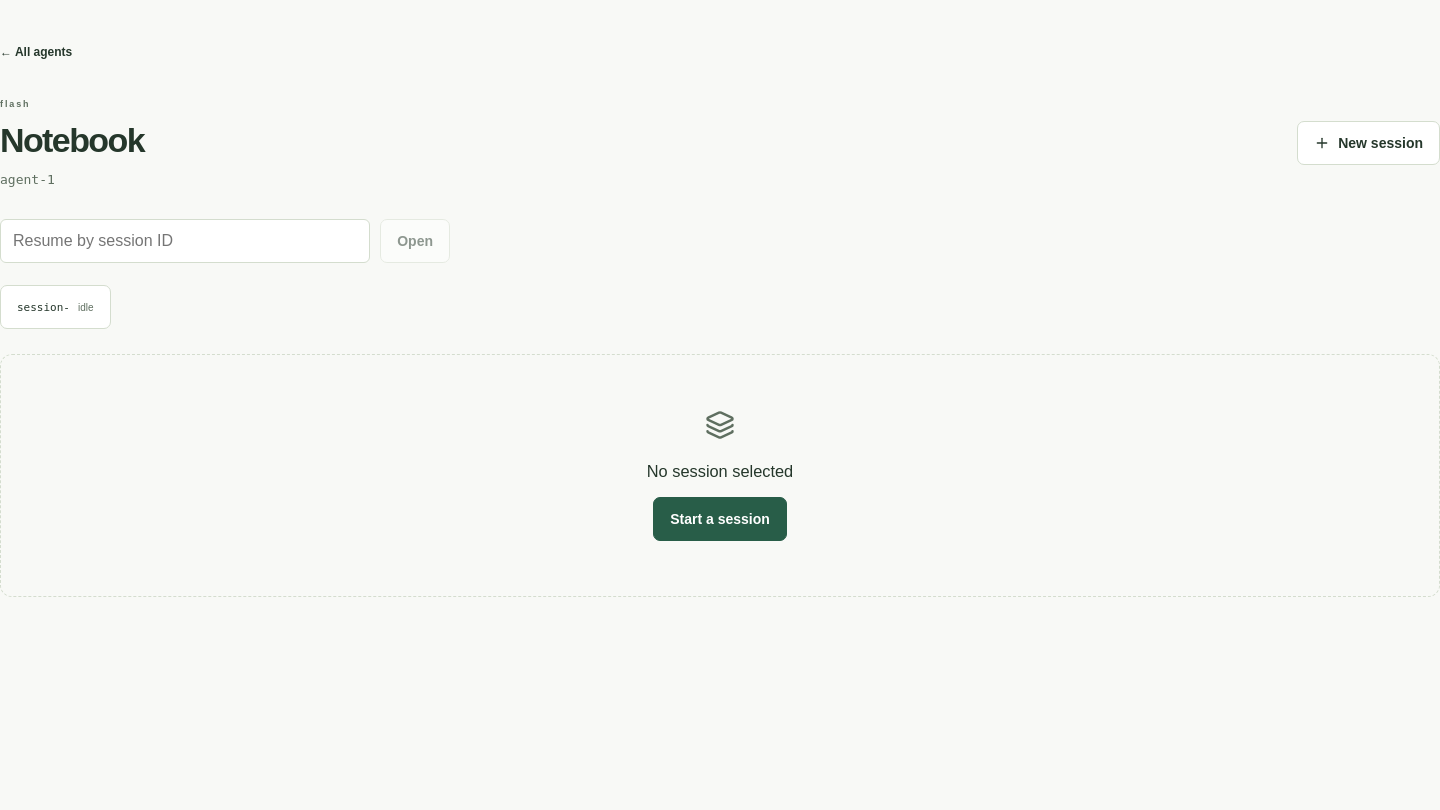
Scenario: Responses conversation › renders structured journal and queued message content
Click the button "session- idle" at (55, 307), box top-left (0, 285), bottom-right (111, 329)
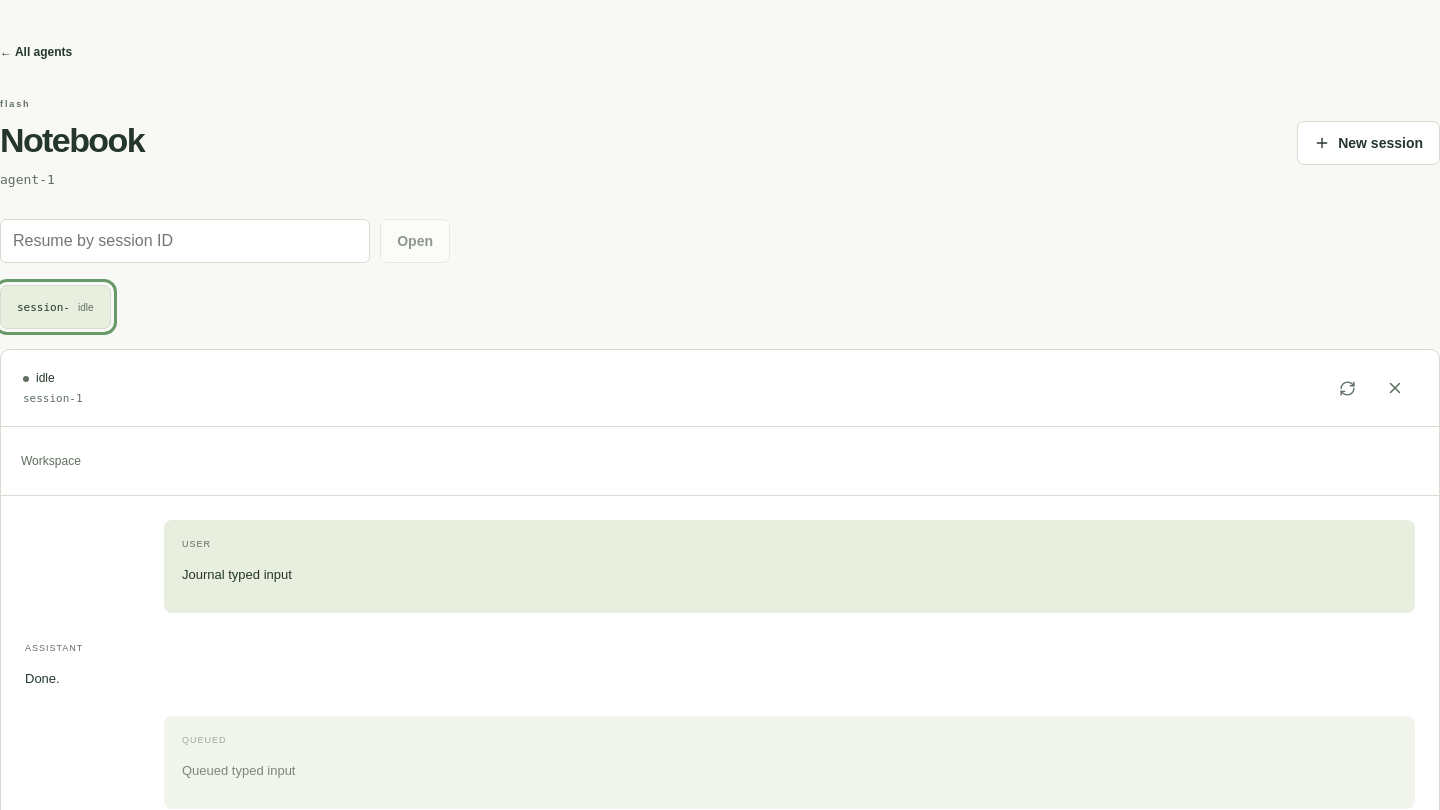
expect the text "Journal typed input" is shown: met, box top-left (182, 567), bottom-right (292, 582)
expect the text "Queued typed input" is shown: met, box top-left (182, 763), bottom-right (296, 778)
